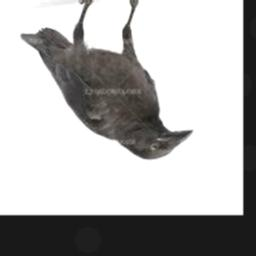Crow: (19, 0, 193, 160)
